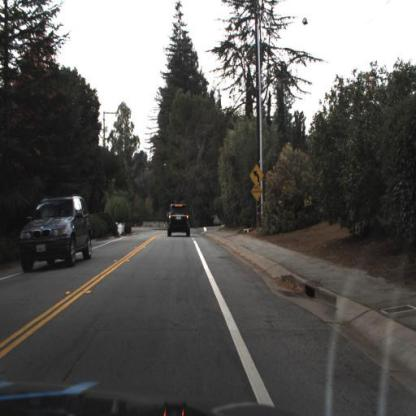car: (20, 194, 93, 276), (169, 203, 192, 241)
